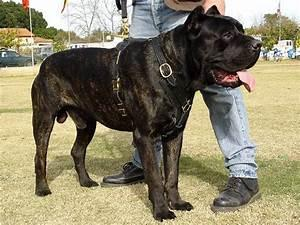dog: (30, 4, 262, 221)
